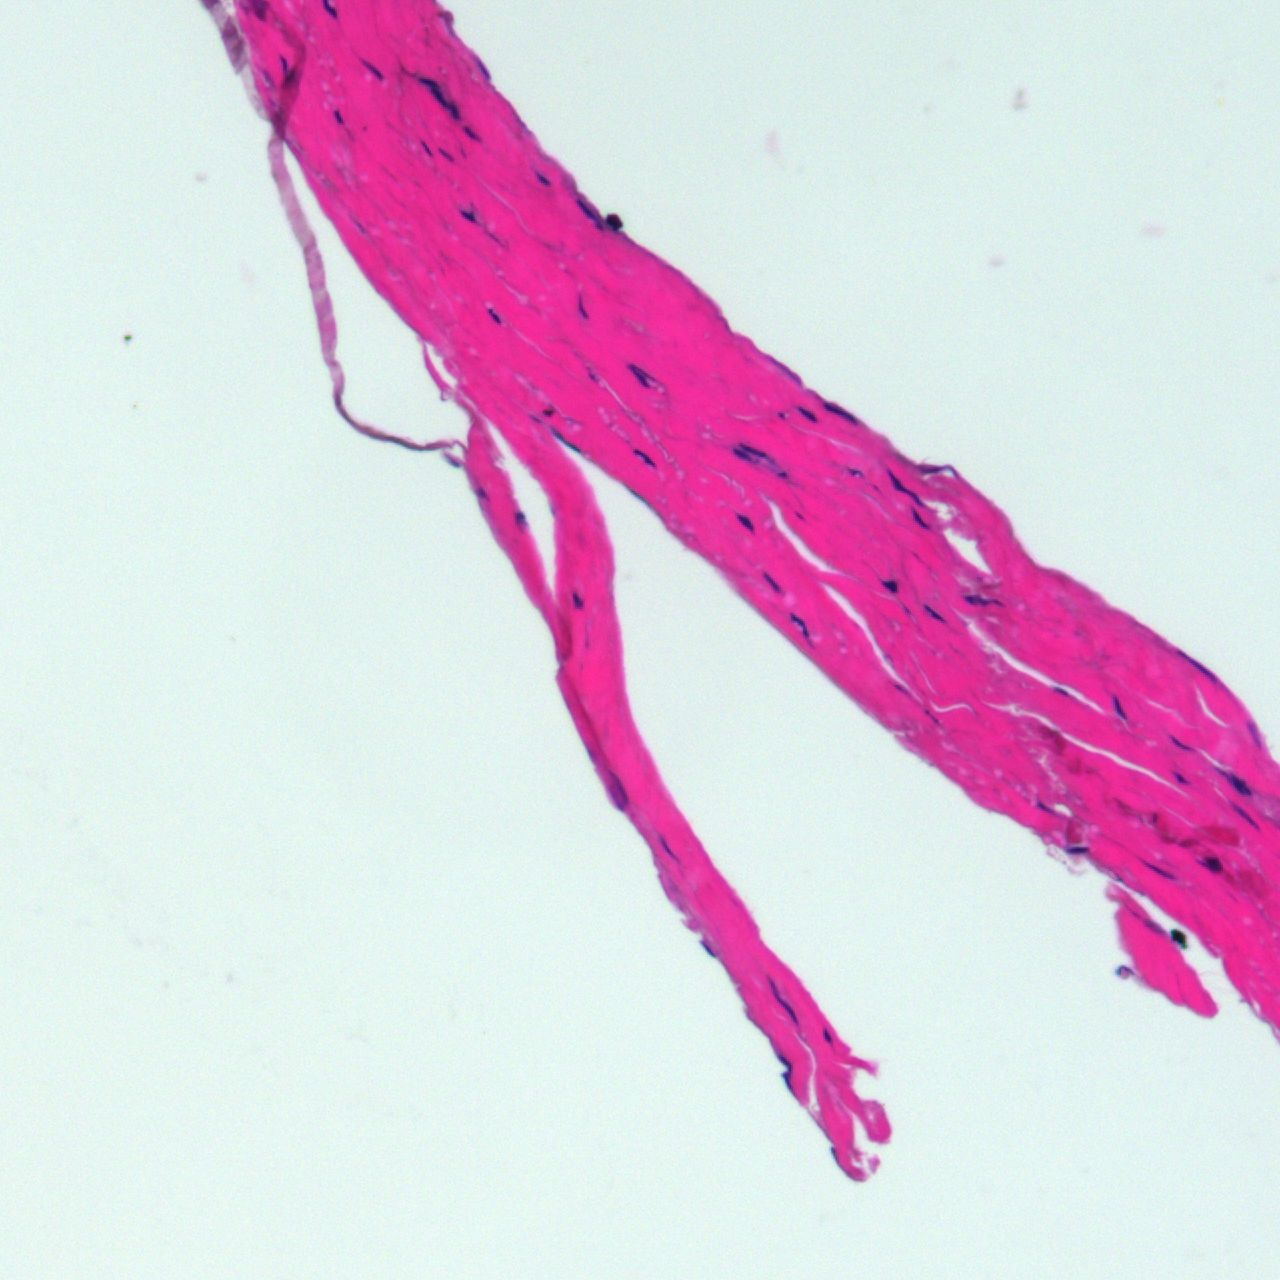dust: (1171, 928, 1189, 948), (606, 213, 622, 230)
nucleus-HE: (415, 69, 467, 124), (761, 974, 802, 1028), (879, 467, 927, 511), (1216, 760, 1254, 799), (600, 763, 635, 806), (772, 1053, 805, 1092), (1178, 649, 1216, 682), (574, 197, 606, 231), (821, 399, 856, 429), (1141, 855, 1175, 885), (622, 359, 653, 392), (1228, 799, 1260, 829), (1242, 719, 1267, 754), (653, 832, 681, 863), (787, 610, 813, 639), (551, 427, 579, 452), (731, 509, 760, 535), (631, 444, 658, 470), (361, 56, 386, 83), (760, 570, 784, 595), (736, 440, 768, 458), (472, 56, 493, 83), (964, 594, 1005, 607), (907, 506, 930, 530), (794, 404, 817, 425), (1109, 694, 1126, 720), (922, 604, 944, 625), (459, 123, 481, 144), (417, 137, 437, 159), (1194, 857, 1221, 873), (1170, 736, 1193, 755), (921, 464, 956, 476), (531, 168, 551, 188), (699, 939, 717, 958), (890, 679, 908, 697), (730, 445, 751, 462), (577, 293, 588, 319), (331, 105, 345, 127), (437, 147, 455, 163), (879, 577, 897, 592), (486, 307, 502, 325), (459, 207, 477, 222), (572, 591, 585, 610), (1035, 799, 1050, 813), (1054, 685, 1070, 697), (279, 54, 288, 75), (1065, 845, 1089, 853), (1115, 966, 1131, 976), (823, 1027, 832, 1043), (849, 468, 863, 478), (1175, 771, 1186, 783), (542, 406, 554, 416), (476, 486, 486, 498), (515, 511, 524, 523), (776, 470, 788, 478), (777, 410, 784, 418)
